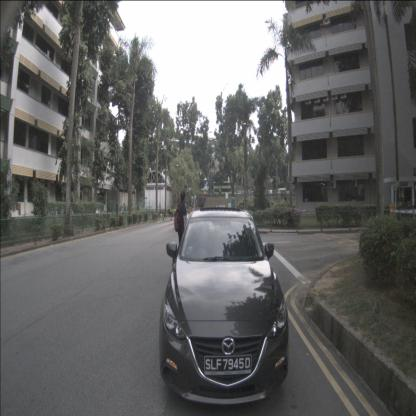human-pedestrian-adult: (174, 190, 187, 269)
vehicle-bus-rigid: (210, 181, 234, 197)
vehicle-car: (159, 208, 289, 406), (277, 188, 286, 195), (265, 189, 273, 196)
